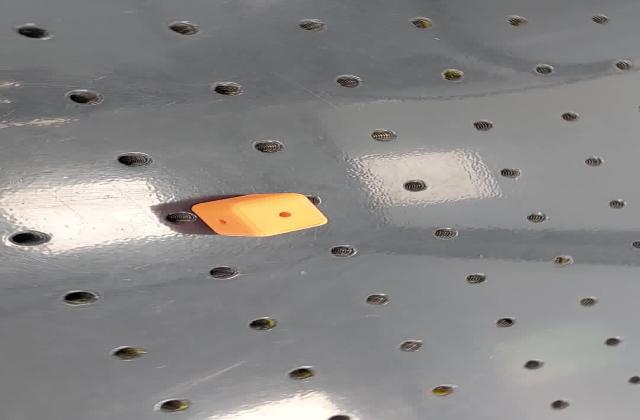cube: (185, 190, 335, 239)
